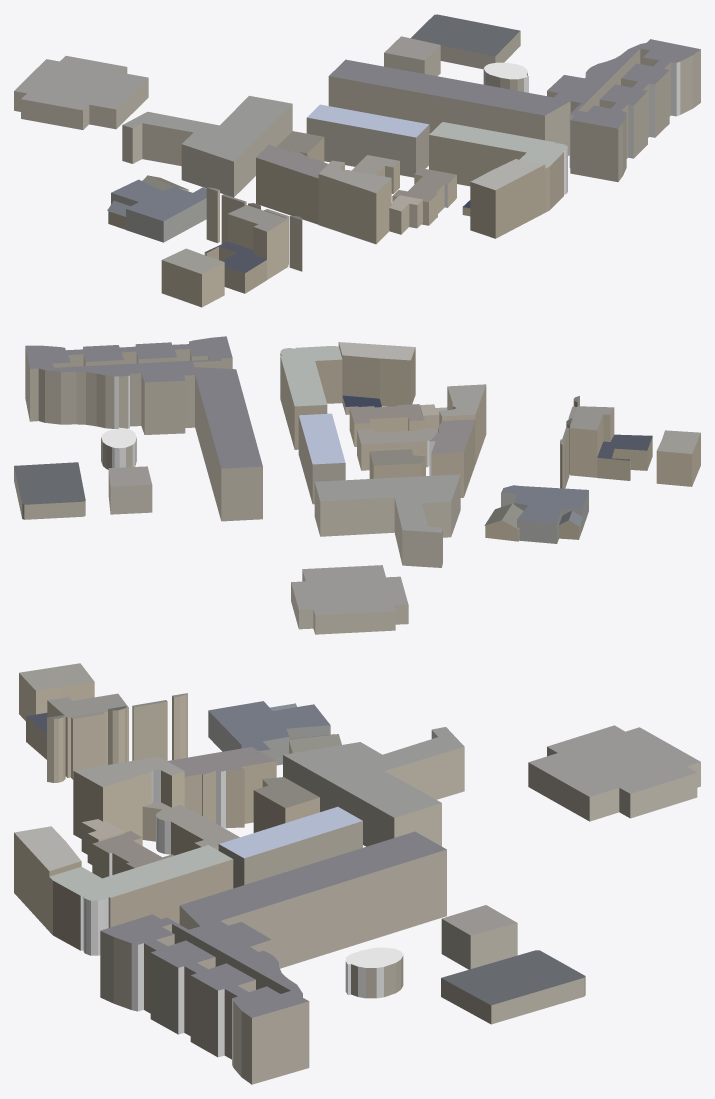
The picture shows the model from 3 angles, top to bottom: view 1: azimuth 30°, elevation 25°; view 2: azimuth 150°, elevation 25°; view 3: azimuth 270°, elevation 25°; orthographic projection. The views are drawn at different scales.
Parts seen in each view (by area): view 1: tuile; view 2: tuile; view 3: tuile.
Boxes of the visible parts, x1,y1,x2,y2 form: tuile: [14, 14, 700, 307]; tuile: [14, 336, 700, 634]; tuile: [14, 663, 700, 1084].
Size of the model in its own units: 297 by 28.28 by 233.
